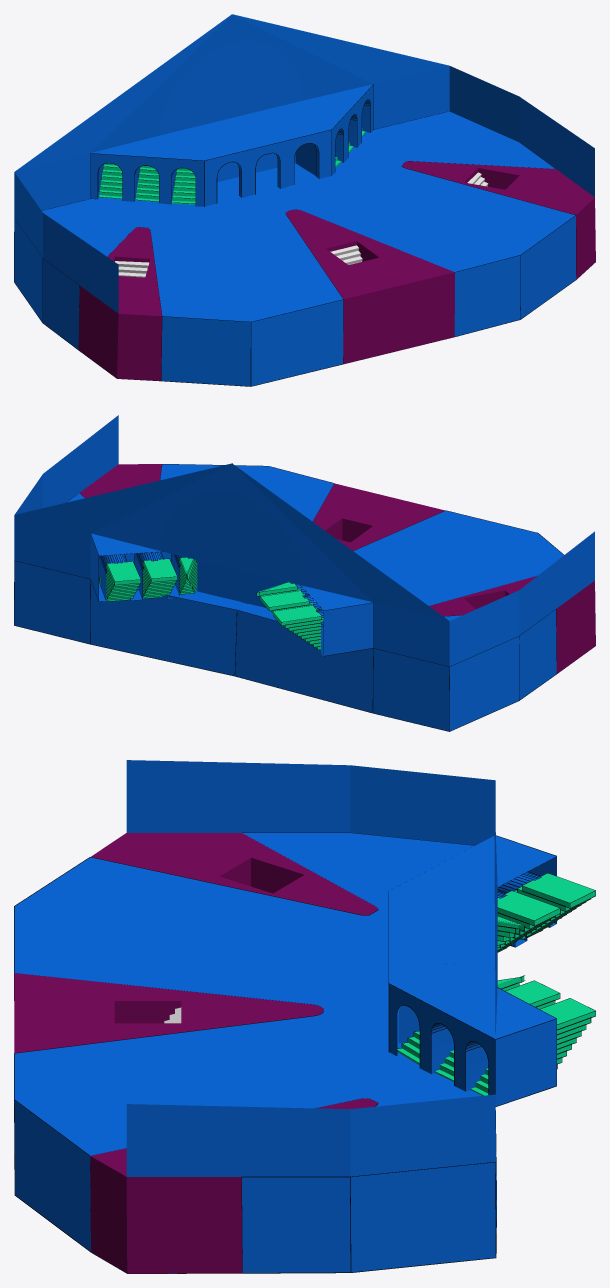
The model's file is mainroom 1.fbx.
The picture shows the model from 3 angles, top to bottom: view 1: azimuth 30°, elevation 25°; view 2: azimuth 150°, elevation 25°; view 3: azimuth 270°, elevation 25°; orthographic projection. The views are drawn at different scales.
Visible parts, largest first — view 1: Plane.009, Plane.003, Plane.011, Plane.004, Plane.005, Cube.003, Cube.002, Cube.007; view 2: Plane.009, Plane.003, Plane.011, Plane.004, Cube.003, Cube.002; view 3: Plane.009, Plane.003, Plane.011, Plane.004, Cube.003.
Boxes of the visible parts, bbox=[...] form: Plane.009: bbox=[14, 111, 595, 386]; Plane.003: bbox=[14, 14, 594, 313]; Plane.011: bbox=[78, 161, 595, 380]; Plane.004: bbox=[90, 84, 373, 206]; Plane.005: bbox=[204, 129, 331, 206]; Cube.003: bbox=[99, 128, 365, 204]; Cube.002: bbox=[217, 143, 316, 182]; Cube.007: bbox=[115, 172, 488, 277]; Plane.009: bbox=[14, 464, 595, 731]; Plane.003: bbox=[14, 415, 594, 666]; Plane.011: bbox=[80, 464, 595, 673]; Plane.004: bbox=[90, 533, 373, 656]; Cube.003: bbox=[99, 557, 323, 651]; Cube.002: bbox=[197, 560, 287, 607]; Plane.009: bbox=[14, 832, 496, 1273]; Plane.003: bbox=[126, 760, 497, 1176]; Plane.011: bbox=[14, 833, 377, 1273]; Plane.004: bbox=[388, 835, 556, 1106]; Cube.003: bbox=[397, 873, 595, 1095].
Bounding box in the file's own units: 2583 × 1128 × 1837.
